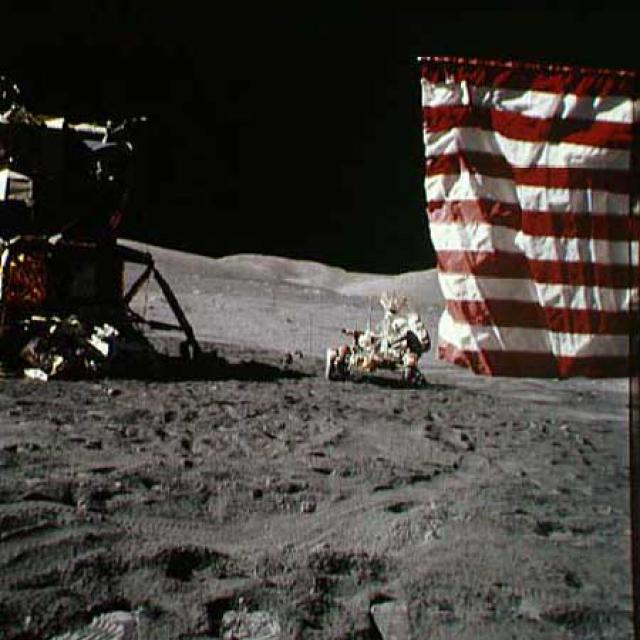artifact: (414, 43, 638, 401), (0, 73, 218, 388), (307, 282, 432, 383)
crater: (38, 471, 337, 529)
